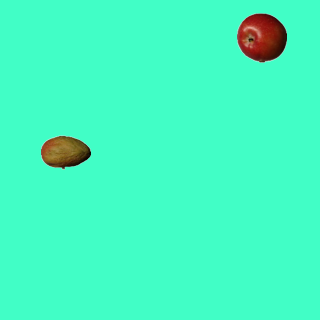Apple Braeburn: (236, 12, 286, 62)
Papaya: (40, 127, 90, 177)
